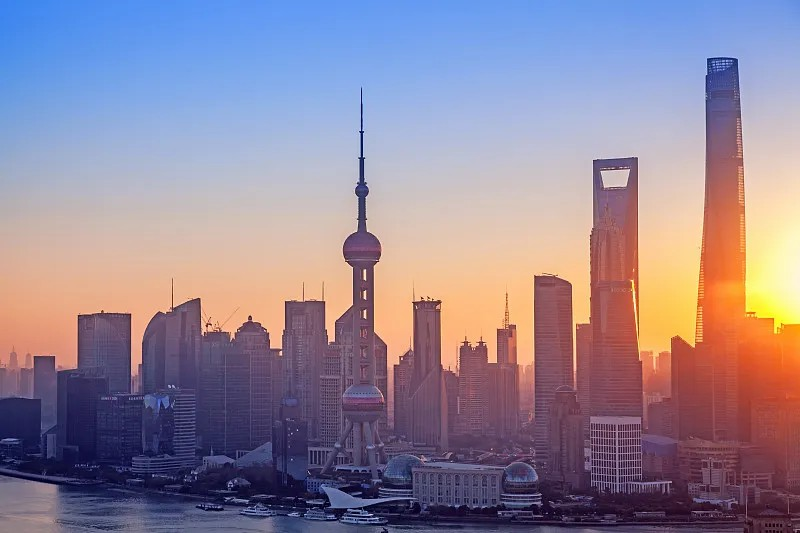Oriental: (322, 87, 389, 476)
